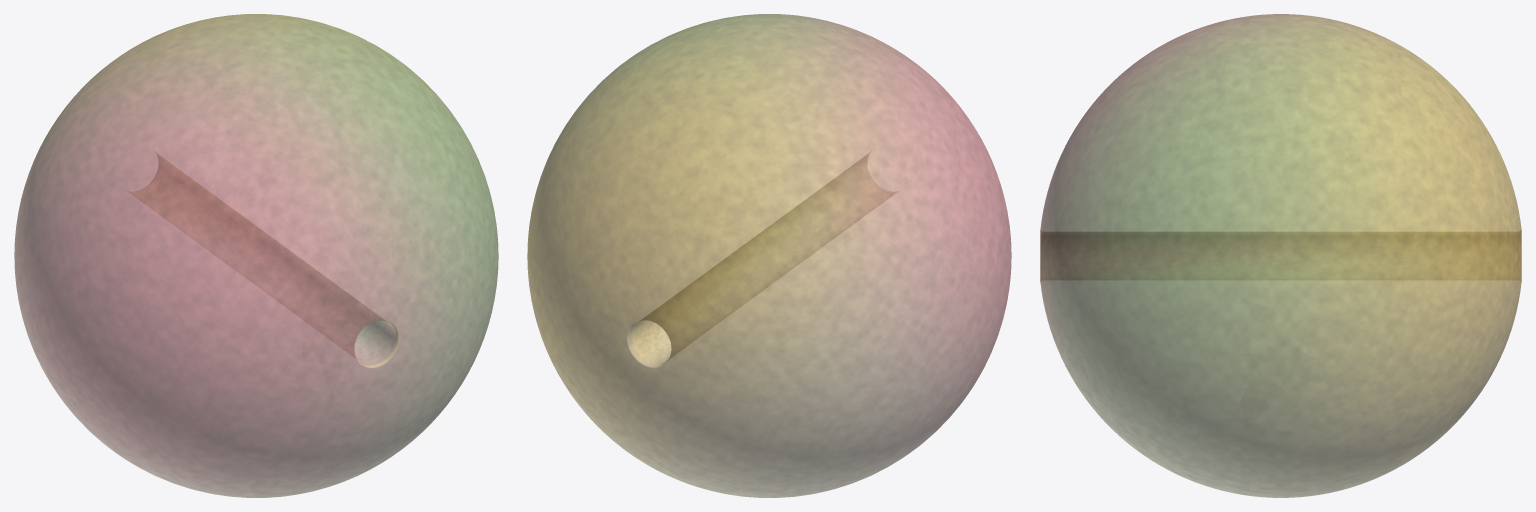
Rendered from multicolor-tourmaline-10mm.glb.
3 renders of one model, left to right at view 1: azimuth 30°, elevation 25°; view 2: azimuth 150°, elevation 25°; view 3: azimuth 270°, elevation 25°, orthographic.
Visible parts, largest first — view 1: multicolor-tourmaline.001; view 2: multicolor-tourmaline.001; view 3: multicolor-tourmaline.001.
Part boxes in pixels (<box>): multicolor-tourmaline.001: <box>14,14,498,497</box>; multicolor-tourmaline.001: <box>527,14,1011,497</box>; multicolor-tourmaline.001: <box>1040,14,1521,497</box>.
Bounding box in the file's own units: 0.01 × 0.01 × 0.00994.
Materials: 2 (1 with a texture image).
